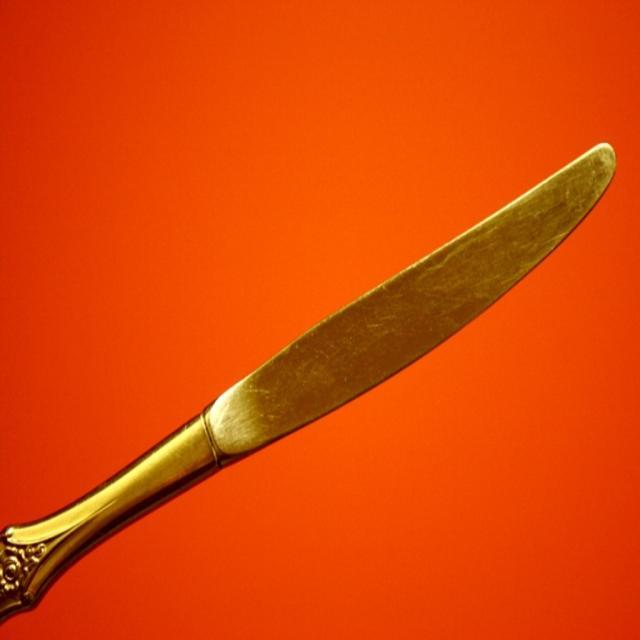Knife: (0, 144, 614, 618)
